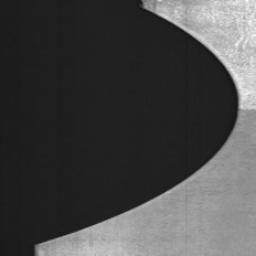Crescent gap: (37, 8, 238, 245)
